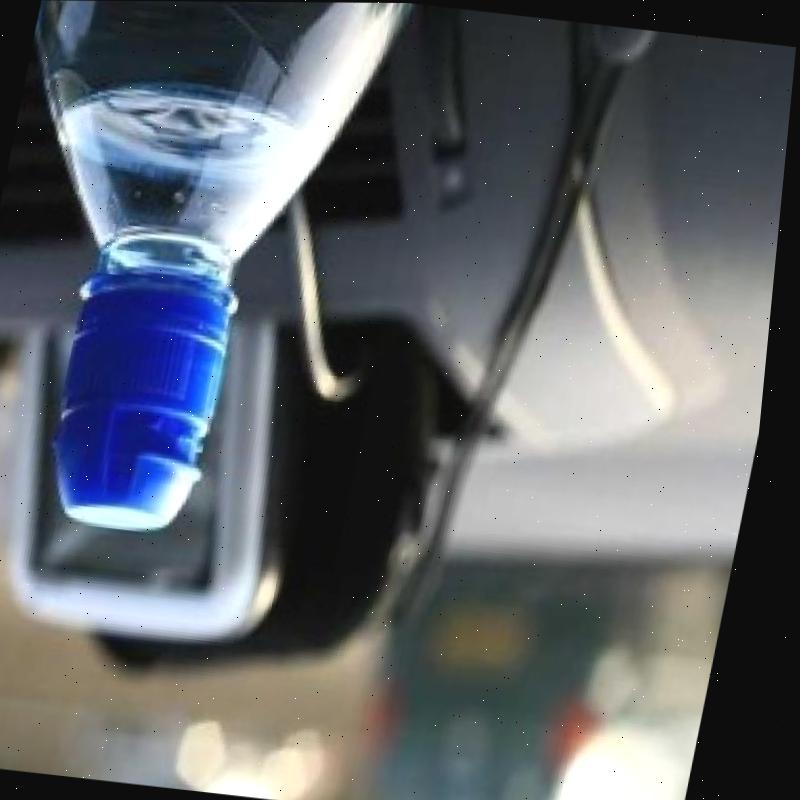botella: (0, 0, 414, 548)
